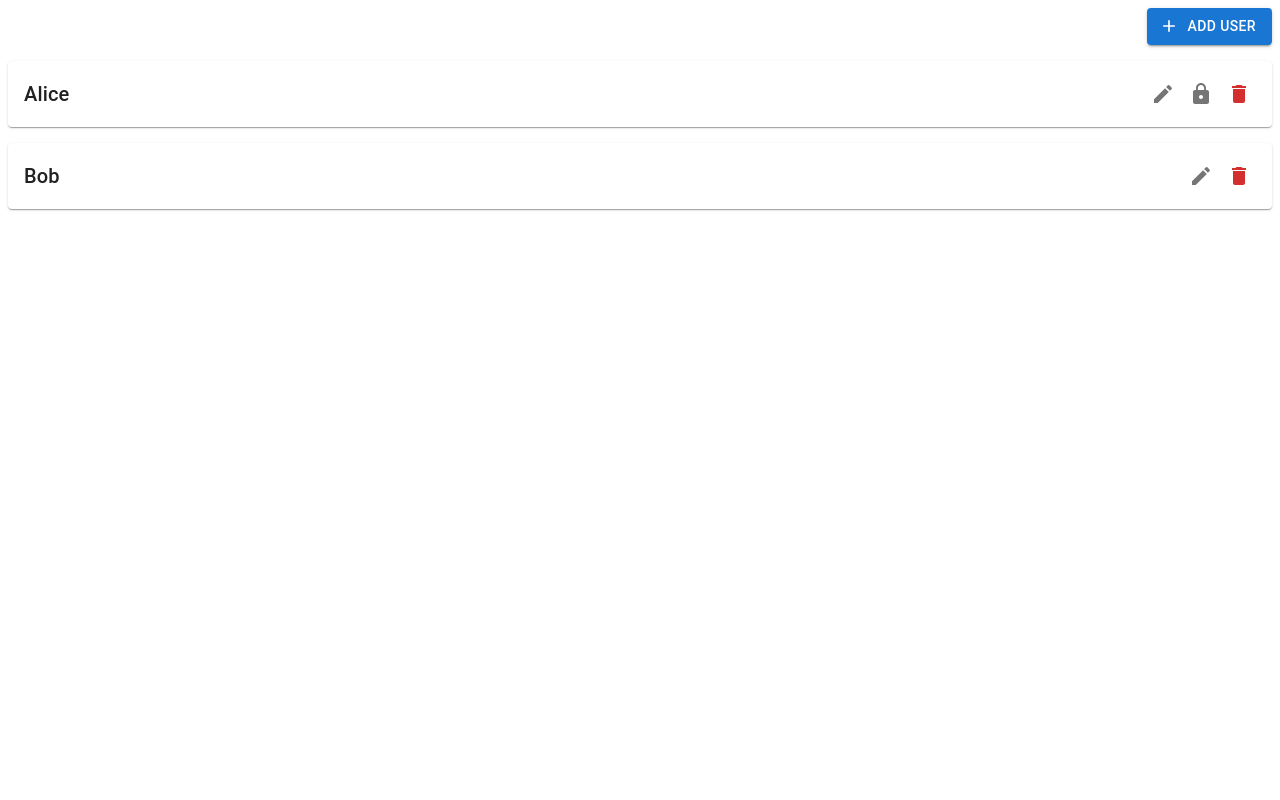
Test case: Change Password › shows error when new passwords do not match
The image size is (1280, 800).
Click the button named "change password" at coordinates (1201, 94), box [1184,76,1218,110]
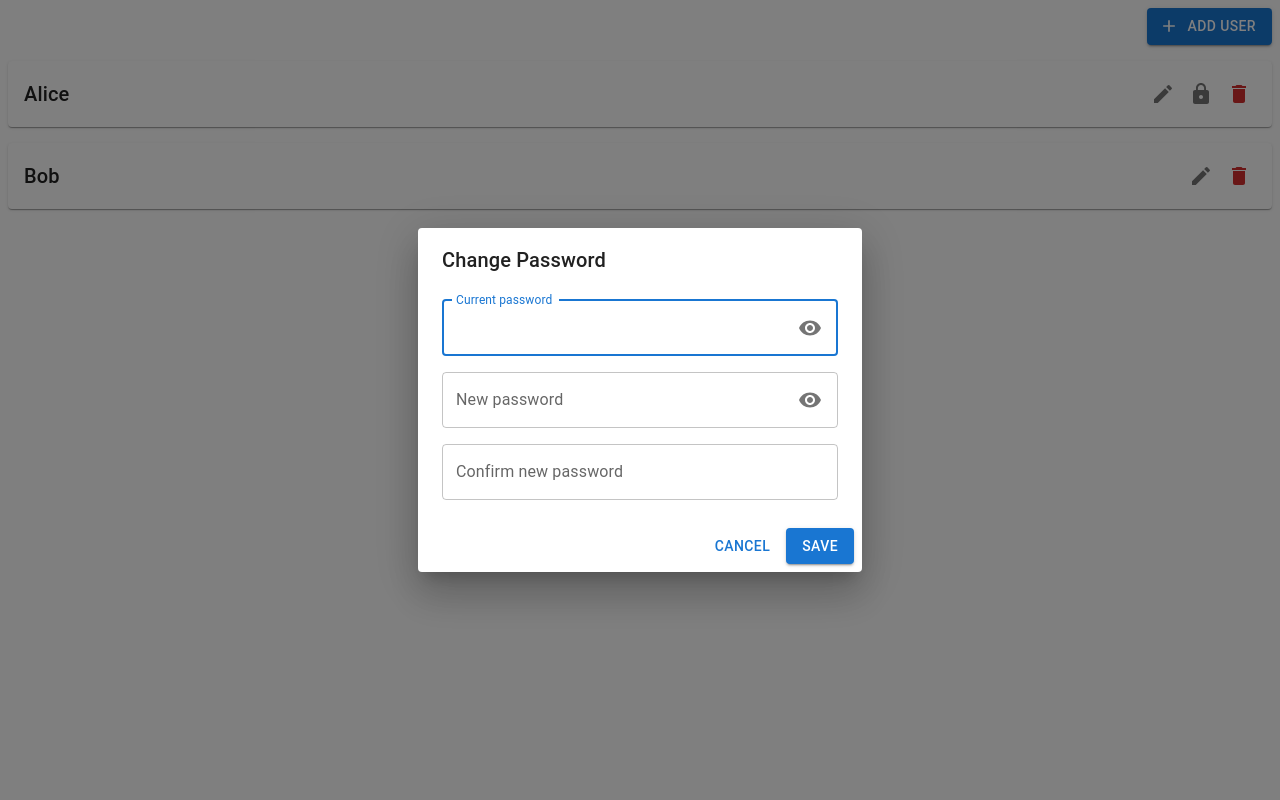
Type "oldpass123" into the password field labelled "Current password" at coordinates (614, 328), box [442,300,785,356]
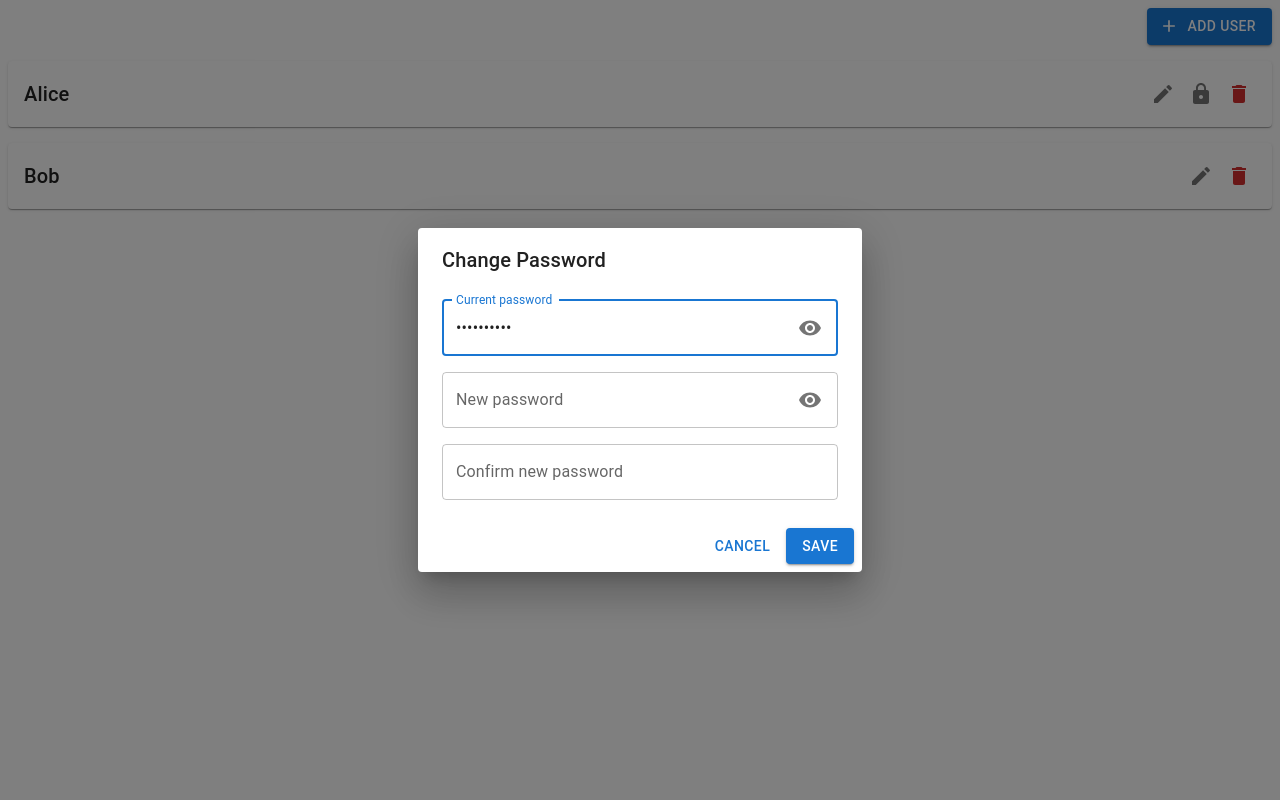
Type "newpass123" into the password field labelled "New password" at coordinates (614, 400), box [442,372,785,428]
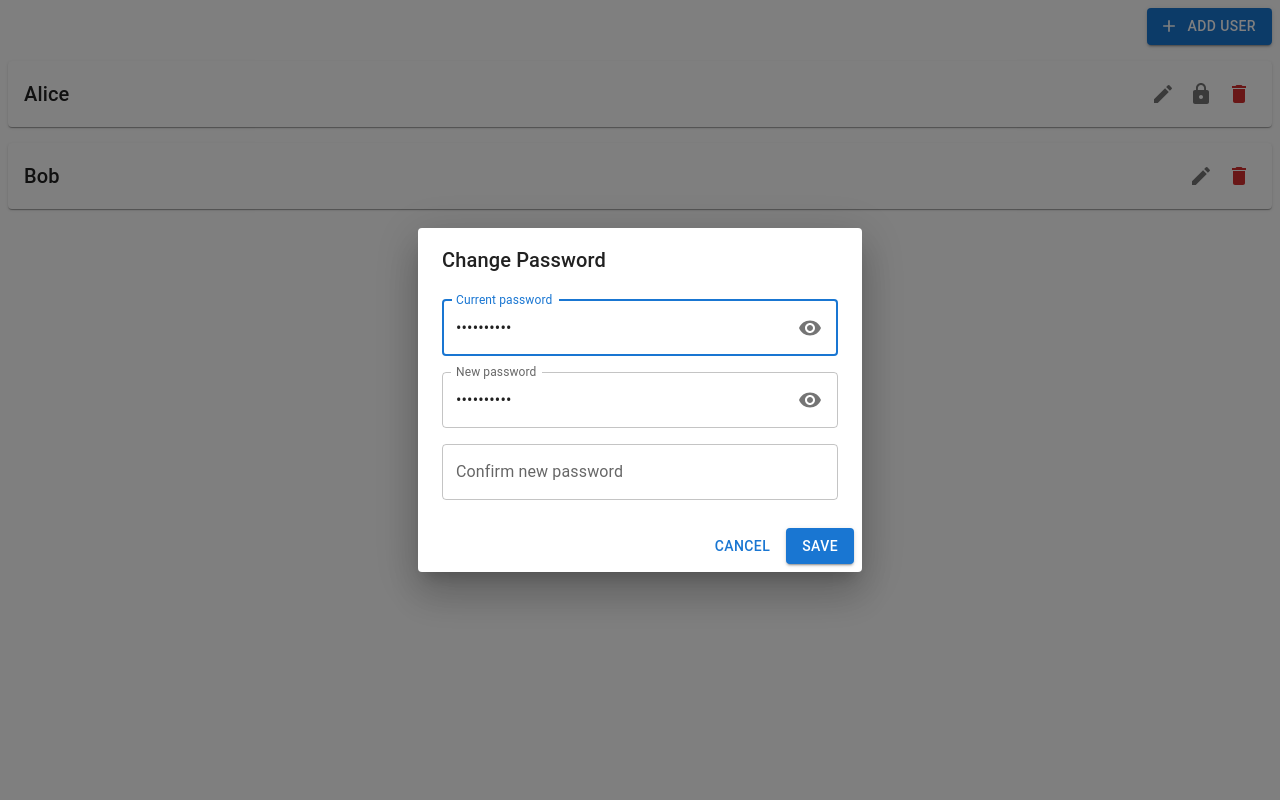
Type "different123" into the password field labelled "Confirm new password" at coordinates (640, 472), box [442,444,838,500]
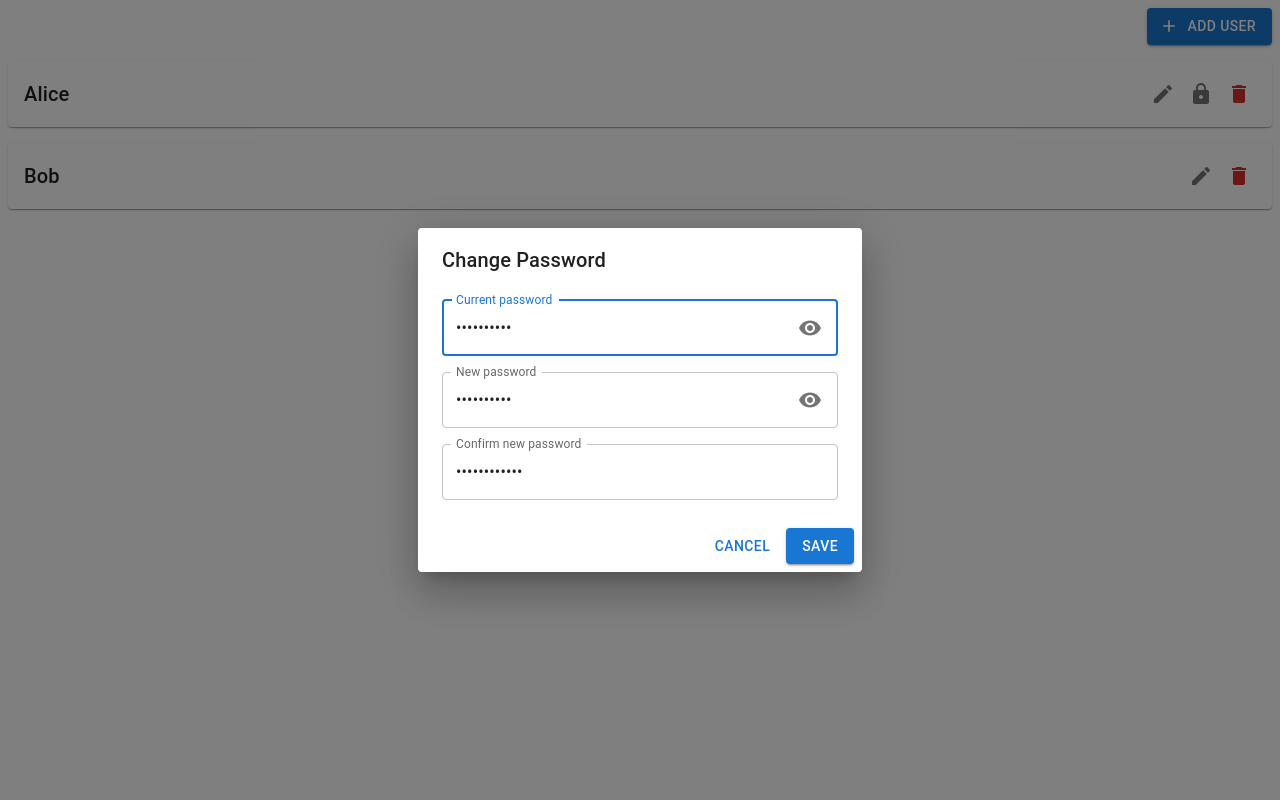
Click the button "Save" at coordinates (820, 546), box [786,528,854,564]
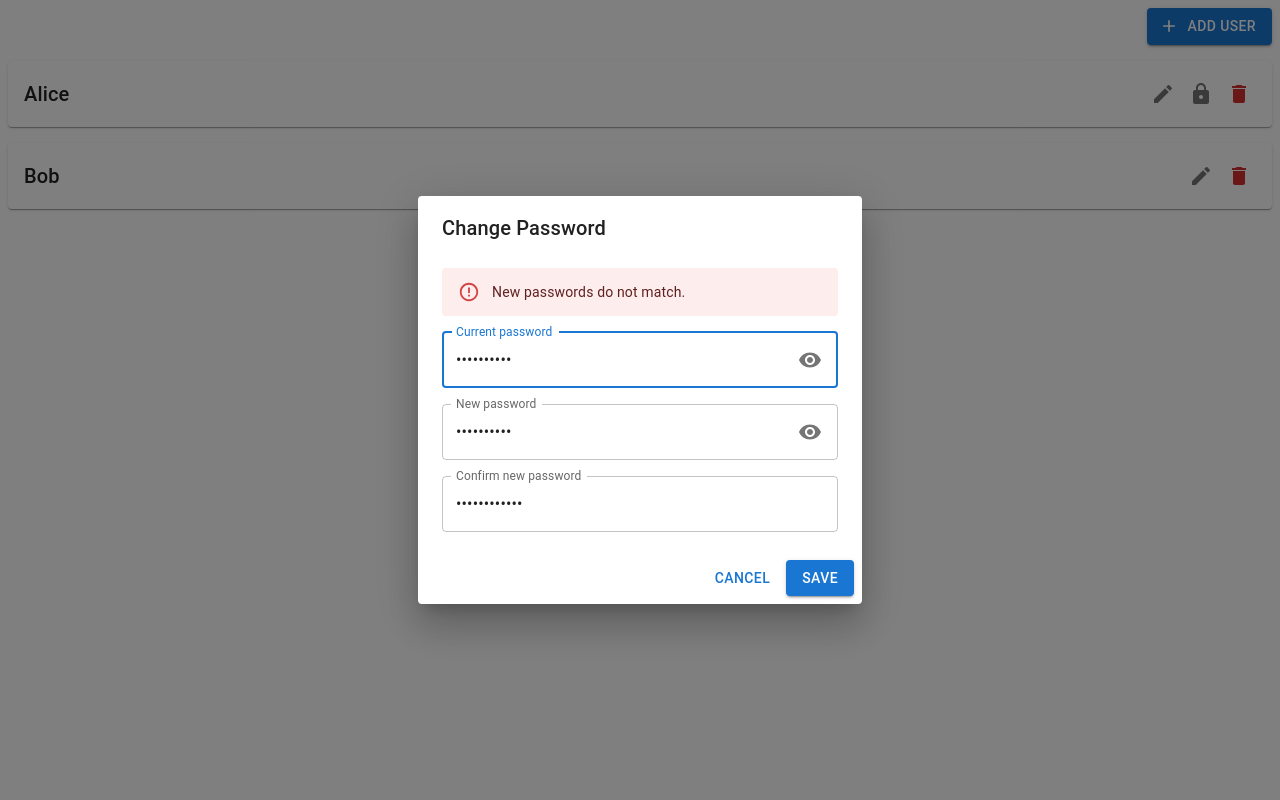
Expected: the text "New passwords do not match." is shown, [492,284,685,300]
